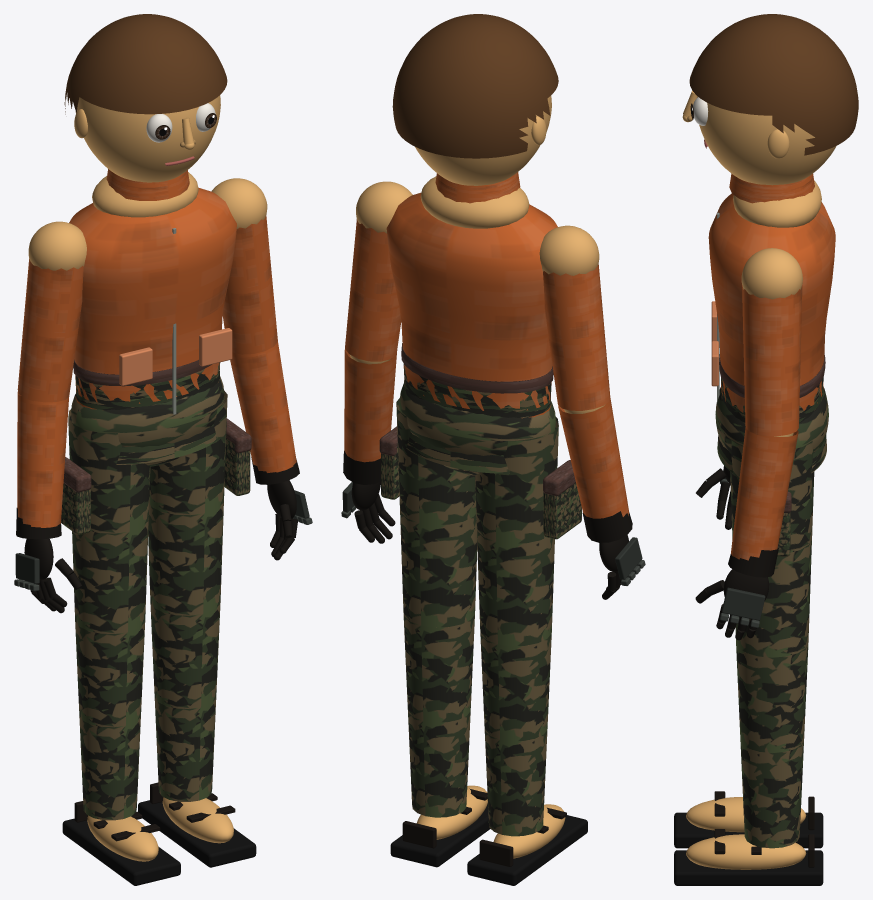
The model's file is 08-sandales.glb.
The picture shows the model from 3 angles, left to right: view 1: azimuth 30°, elevation 25°; view 2: azimuth 150°, elevation 25°; view 3: azimuth 270°, elevation 25°; orthographic projection. The views are drawn at different scales.
Bounding box in the file's own units: 0.6344 × 1.76 × 0.353.
21 materials, 4 textured.
